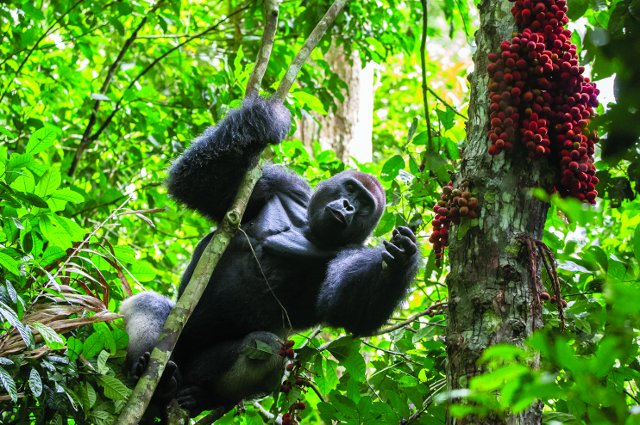Goriila: (112, 93, 418, 408)
